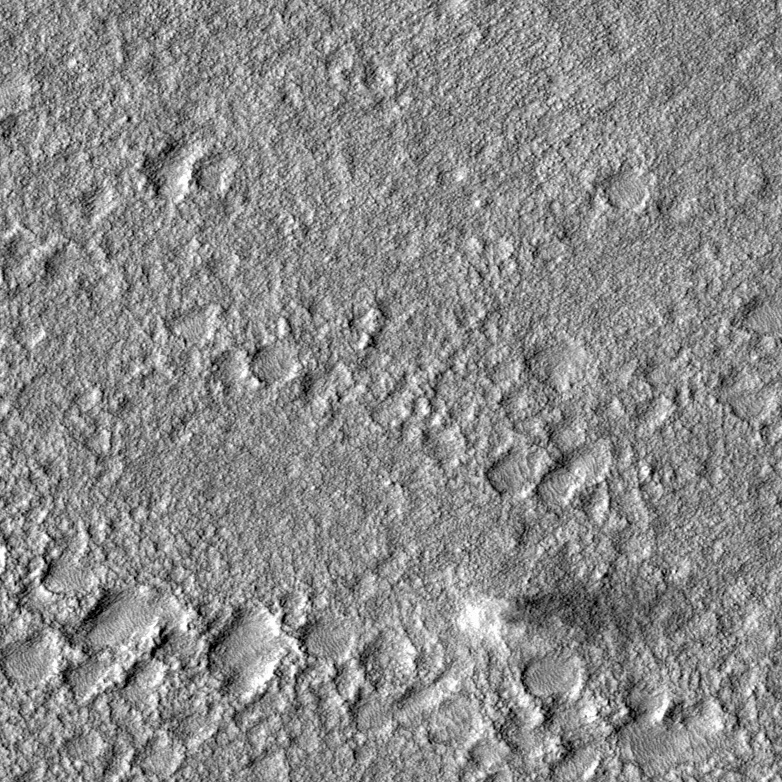dust_devil: (452, 571, 695, 653)
